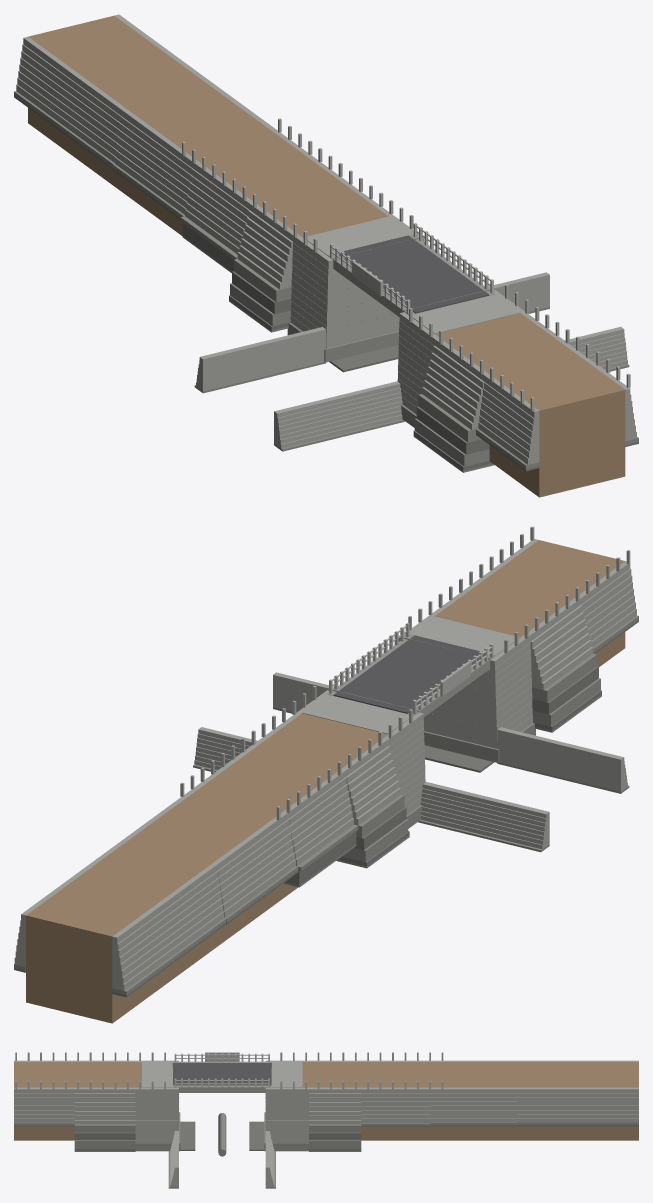
The model's file is bridge_model_v2.glb.
3 views of the same model, one above another, from view 1: azimuth 30°, elevation 25°; view 2: azimuth 150°, elevation 25°; view 3: azimuth 270°, elevation 25° (orthographic). The views are drawn at different scales.
Visible parts, largest first — view 1: EarthFill_North, RetainingWalls_Left_North, EarthFill_South, RetainingWalls_Left_South, Footings_Left, ProtectionWalls_South, ProtectionWalls_North, AsphaltWC, PCC_Left, WingWalls_Right, Abutment_Right, WingWalls_Left (+11 smaller); view 2: EarthFill_North, RetainingWalls_Left_North, EarthFill_South, Footings_Left, RetainingWalls_Left_South, ProtectionWalls_North, ProtectionWalls_South, AsphaltWC, PCC_Left, WingWalls_Left, Abutment_Left, WingWalls_Right (+8 smaller); view 3: EarthFill_North, RetainingWalls_Right_North, RetainingWalls_Right_South, EarthFill_South, Footings_Right, WingWalls_Left, WingWalls_Right, PCC_Right, AsphaltWC, DeckSlab, ApproachSlabs_North, ApproachSlabs_South (+12 smaller).
Boxes of the visible parts, x1,y1,x2,y2 form: EarthFill_North: [28, 15, 388, 237]; RetainingWalls_Left_North: [16, 36, 293, 289]; EarthFill_South: [435, 313, 625, 497]; RetainingWalls_Left_South: [422, 338, 539, 464]; Footings_Left: [14, 91, 629, 472]; ProtectionWalls_South: [274, 326, 627, 448]; ProtectionWalls_North: [196, 272, 549, 391]; AsphaltWC: [339, 235, 489, 313]; PCC_Left: [14, 95, 539, 471]; WingWalls_Right: [290, 212, 424, 348]; Abutment_Right: [331, 272, 399, 346]; WingWalls_Left: [397, 290, 530, 414]; EarthFill_North: [26, 713, 387, 1023]; RetainingWalls_Left_North: [112, 738, 400, 990]; EarthFill_South: [435, 540, 625, 666]; Footings_Left: [111, 615, 638, 995]; RetainingWalls_Left_South: [528, 561, 636, 689]; ProtectionWalls_North: [194, 727, 549, 849]; ProtectionWalls_South: [273, 672, 627, 791]; AsphaltWC: [333, 635, 484, 713]; PCC_Left: [111, 620, 638, 997]; WingWalls_Left: [398, 612, 532, 748]; Abutment_Left: [423, 672, 491, 747]; WingWalls_Right: [292, 690, 425, 814]; EarthFill_North: [302, 1062, 638, 1140]; RetainingWalls_Right_North: [309, 1087, 638, 1124]; RetainingWalls_Right_South: [14, 1087, 135, 1124]; EarthFill_South: [14, 1062, 141, 1140]; Footings_Right: [14, 1112, 638, 1188]; WingWalls_Left: [135, 1060, 178, 1142]; WingWalls_Right: [265, 1060, 308, 1142]; PCC_Right: [14, 1121, 638, 1150]; AsphaltWC: [173, 1063, 271, 1085]; DeckSlab: [173, 1061, 271, 1092]; ApproachSlabs_North: [272, 1061, 302, 1087]; ApproachSlabs_South: [142, 1061, 172, 1087].
Bounding box in the file's own units: 28.2 × 10.82 × 72.
